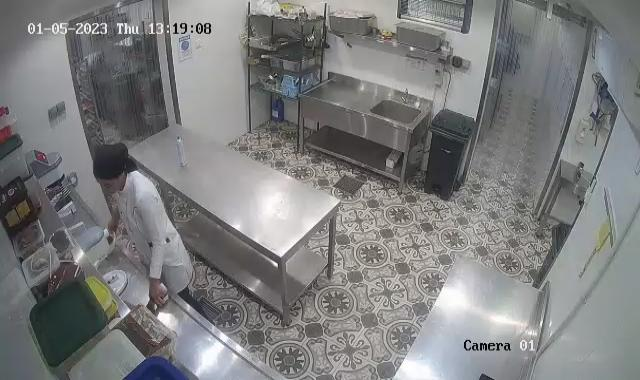no_hairnet: (91, 143, 138, 178)
